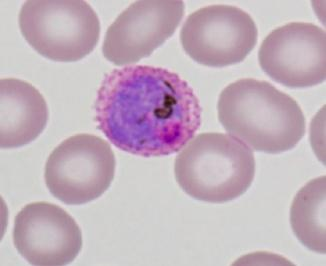Infected: (96, 65, 201, 157)
Uninfected: (216, 78, 305, 153), (175, 133, 255, 202), (102, 0, 184, 66), (19, 0, 102, 64), (46, 134, 117, 206), (183, 3, 257, 66), (259, 23, 326, 88), (14, 201, 81, 266), (0, 80, 50, 148)
